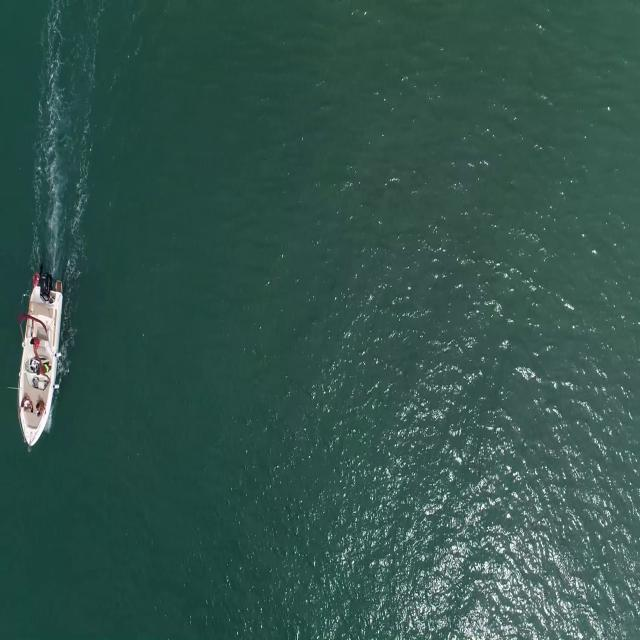boat: (19, 286, 62, 452)
life_buoy: (32, 271, 41, 284)
person: (36, 357, 52, 379), (20, 391, 33, 416), (30, 334, 40, 358), (36, 399, 45, 418)
